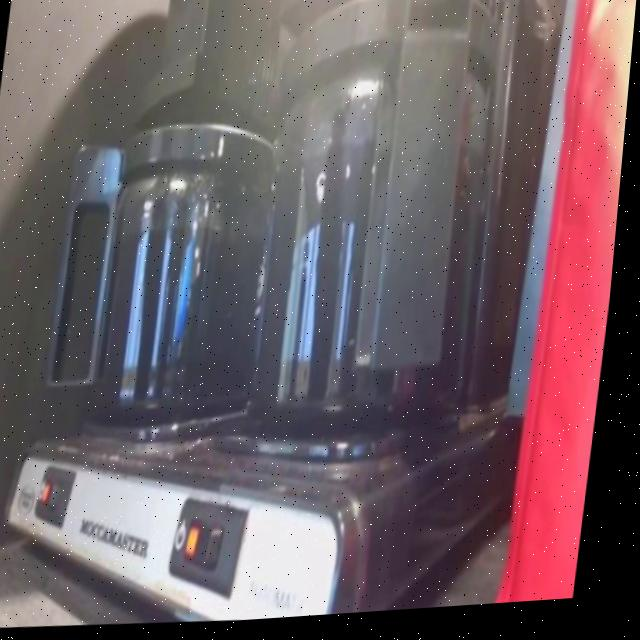coffee: (252, 118, 491, 424), (99, 186, 276, 422)
